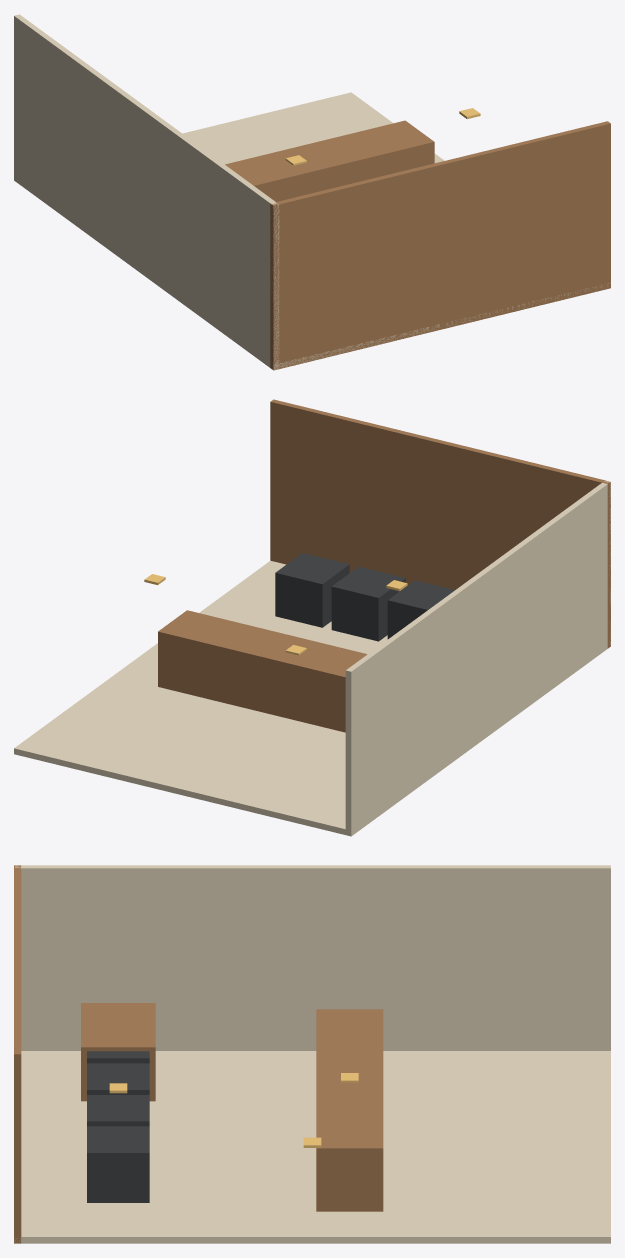
File: ENV_Store_Graybox_M0.glb
3 renders of one model, top to bottom at view 1: azimuth 30°, elevation 25°; view 2: azimuth 150°, elevation 25°; view 3: azimuth 270°, elevation 25°, orthographic. The views are drawn at different scales.
Visible parts, largest first — view 1: ENV_BackWall, ENV_LeftWall, ENV_Floor, STATION_Counter; view 2: ENV_LeftWall, ENV_BackWall, ENV_Floor, STATION_Counter, STATION_Pot_4, STATION_Pot_3, STATION_Pot_2; view 3: ENV_LeftWall, ENV_Floor, STATION_Counter, STATION_Pot_4, STATION_Prep, ENV_BackWall, STATION_Pot_3, STATION_Pot_2, STATION_Pot_1.
Part boxes in pixels (x1,y1,x2,y2): ENV_BackWall: (270,121,610,370); ENV_LeftWall: (14,14,279,369); ENV_Floor: (14,92,610,369); STATION_Counter: (225,120,434,201); ENV_LeftWall: (345,480,610,835); ENV_BackWall: (270,399,610,648); ENV_Floor: (14,560,610,836); STATION_Counter: (158,610,367,732); STATION_Pot_4: (275,553,349,627); STATION_Pot_3: (331,566,405,641); STATION_Pot_2: (387,580,454,639); ENV_LeftWall: (15,865,610,1050); ENV_Floor: (14,1051,610,1243); STATION_Counter: (316,1009,383,1211); STATION_Pot_4: (87,1126,149,1202); STATION_Prep: (81,1003,155,1101); ENV_BackWall: (14,865,21,1243); STATION_Pot_3: (87,1095,149,1126); STATION_Pot_2: (87,1063,149,1094); STATION_Pot_1: (87,1051,149,1063).
Bounding box in the file's own units: 6 × 2.8 × 8.
